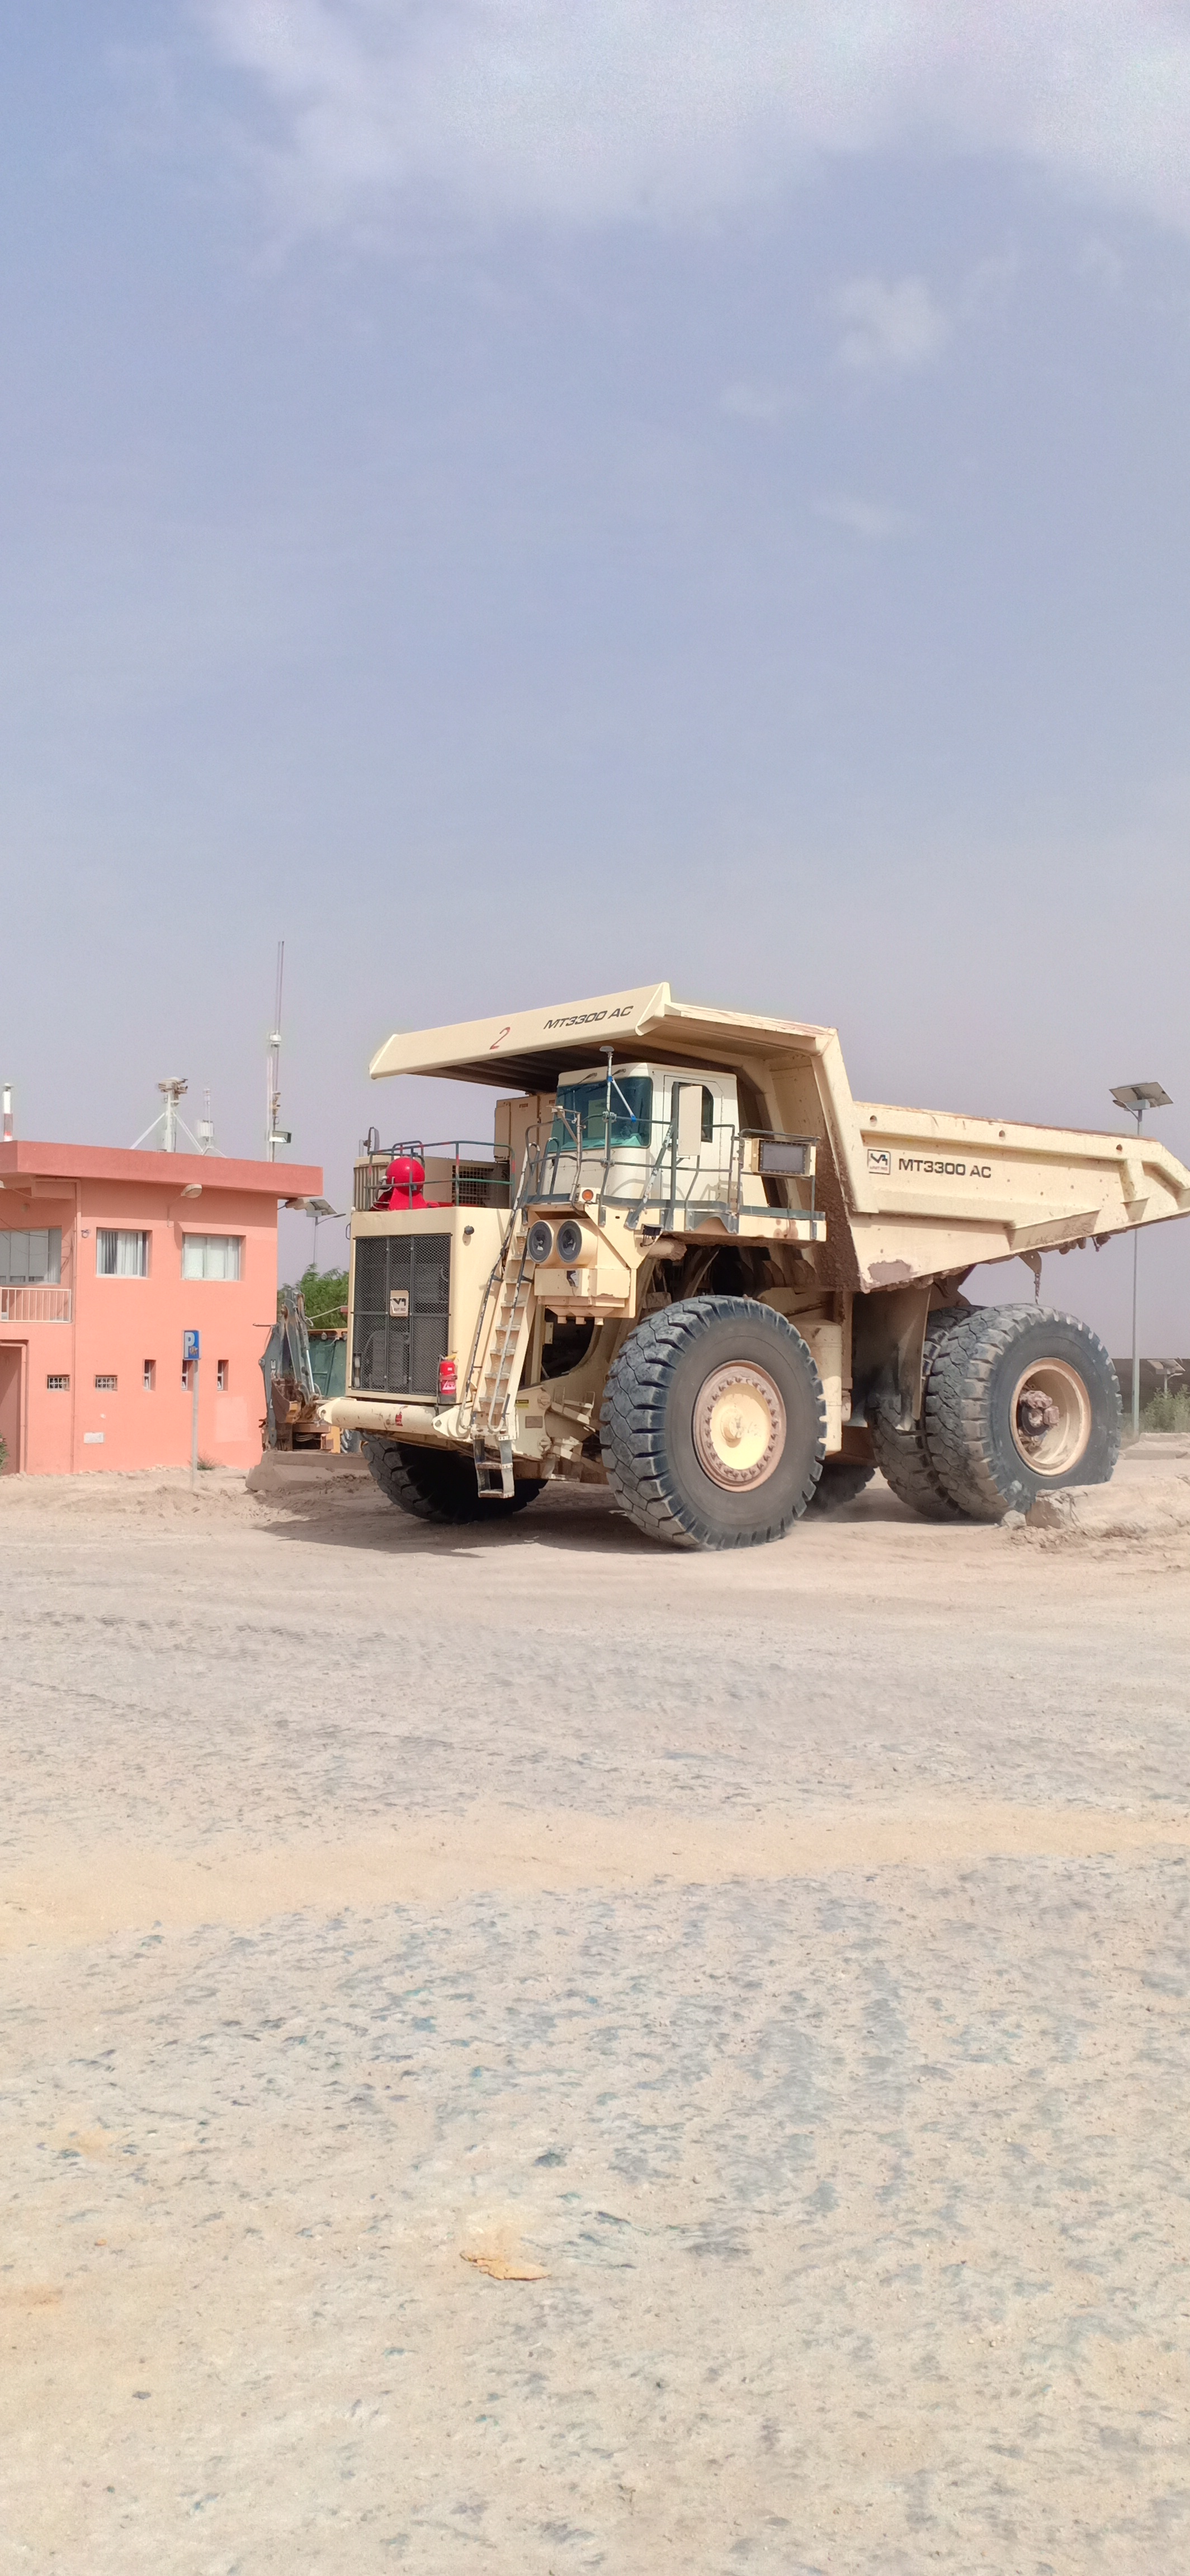camion: (273, 969, 1190, 1595)
